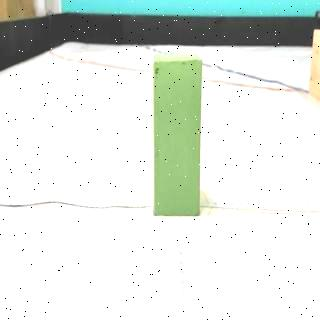greenbox: (151, 54, 203, 220)
